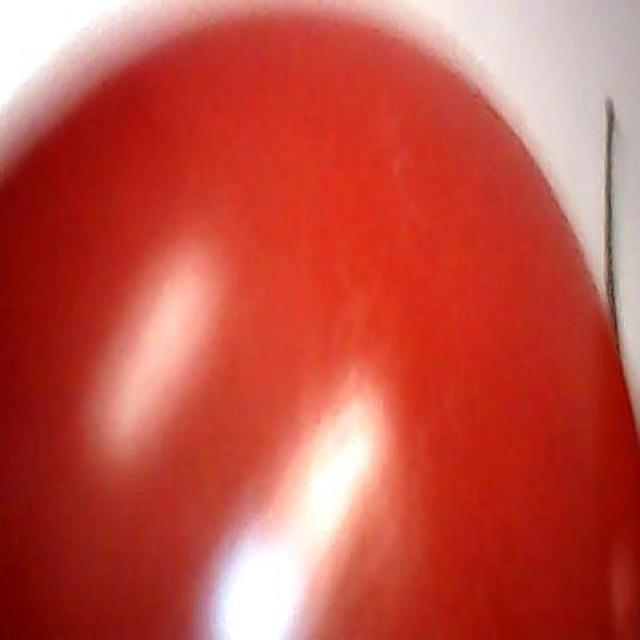Healthy Fruit: (7, 10, 427, 427)
